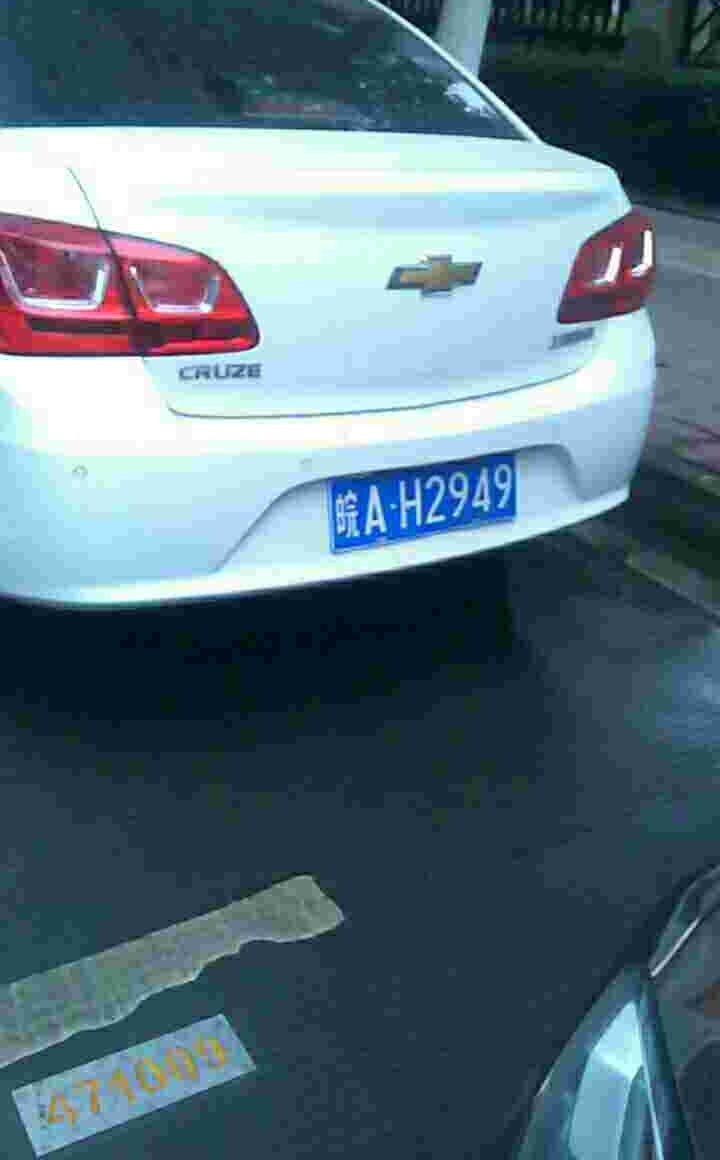plate: (337, 443, 526, 555)
